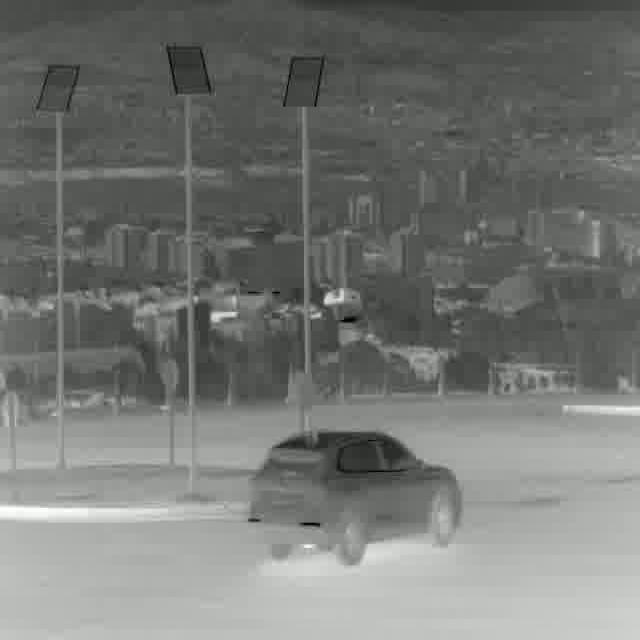Car: (252, 431, 462, 557)
